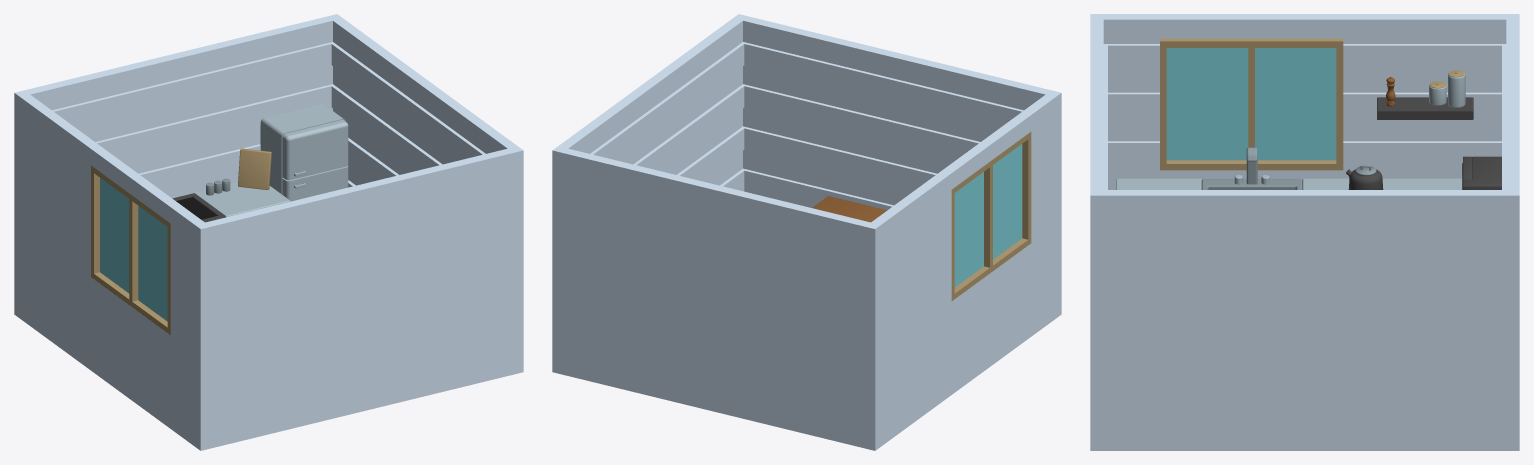
Rendered from kitchen.fbx.
3 views of the same model, side by side, from view 1: azimuth 30°, elevation 25°; view 2: azimuth 150°, elevation 25°; view 3: azimuth 270°, elevation 25° (orthographic). The views are drawn at different scales.
Parts seen in each view (by area): view 1: room, Window, Cube.009, Cube.001, counter top.001, Cube.006, Chopping Board, counter top.003; view 2: room, Window, Cube.012; view 3: room, Window, Shelf, Cube.011, body.002, counter top, counter top.002, body.001, body.004, Cube.010.
Boxes of the visible parts, x1,y1,x2,y2 form: room: (14,14,523,450); Window: (91,165,170,334); Cube.009: (282,120,348,180); Cube.001: (260,103,345,194); counter top.001: (194,182,290,217); Cube.006: (282,166,348,201); Chopping Board: (238,148,271,189); counter top.003: (172,193,225,222); room: (552,14,1061,450); Window: (951,132,1031,300); Cube.012: (812,196,886,222); room: (1090,14,1519,450); Window: (1160,38,1343,170); Shelf: (1377,97,1473,119); Cube.011: (1302,178,1462,189); body.002: (1463,156,1501,189); counter top: (1116,178,1201,189); counter top.002: (1201,179,1302,189); body.001: (1348,166,1383,189); body.004: (1448,73,1465,107); Cube.010: (1246,147,1257,184).
Bounding box in the file's own units: 3200 × 2100 × 3200.
